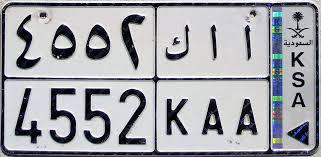2: (118, 13, 147, 146)
4: (14, 13, 44, 145)
5: (48, 24, 78, 145), (83, 23, 111, 145)
A: (236, 24, 259, 136), (202, 24, 224, 136)
K: (165, 24, 190, 136)
